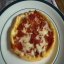pizza: (10, 9, 54, 57)
